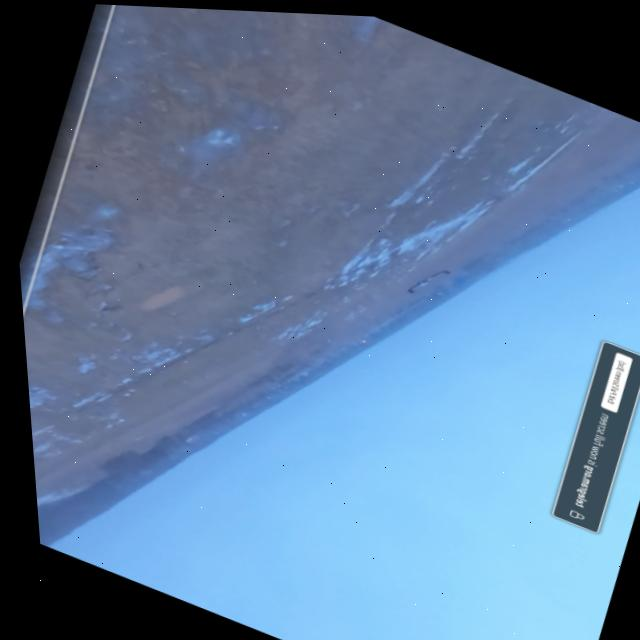planedrone: (405, 257, 453, 306)
